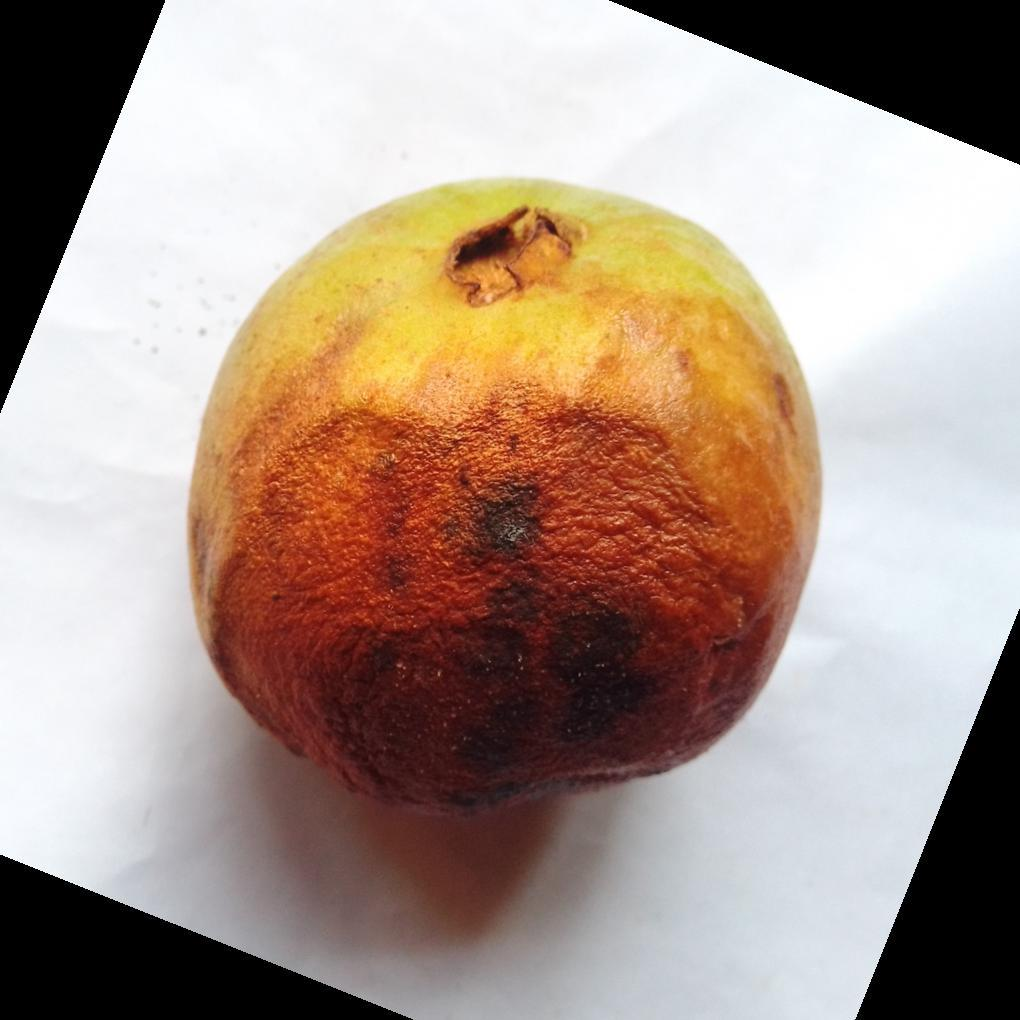FreshOrange: (184, 177, 824, 821)
